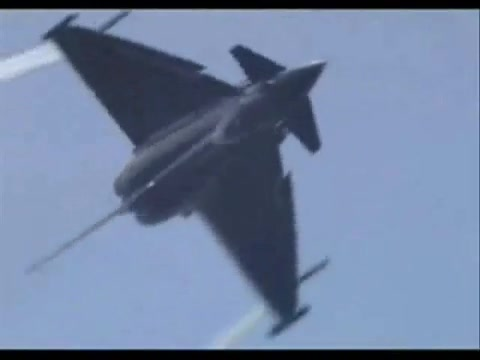aeroplane: (27, 15, 333, 341)
